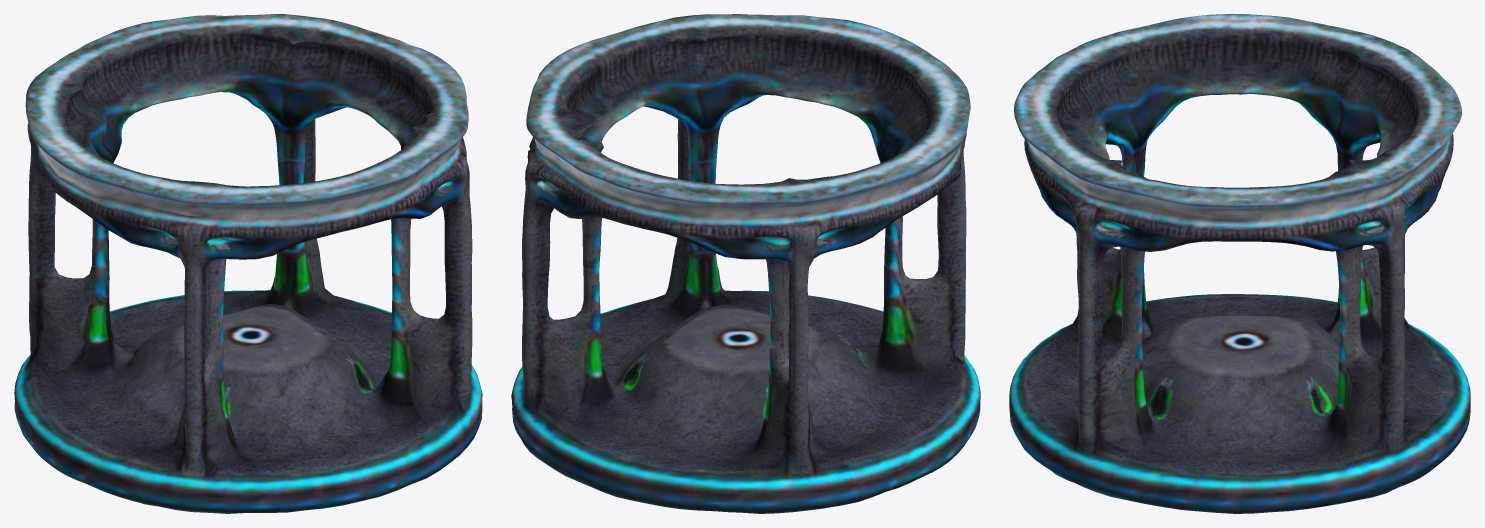
File: bandstand.glb
The picture shows the model from 3 angles, left to right: view 1: azimuth 30°, elevation 25°; view 2: azimuth 150°, elevation 25°; view 3: azimuth 270°, elevation 25°; orthographic projection.
Parts seen in each view (by area): view 1: mesh; view 2: mesh; view 3: mesh.
Part boxes in pixels (x1,y1,x2,y2): mesh: [14, 14, 482, 513]; mesh: [511, 14, 980, 513]; mesh: [1009, 14, 1470, 513].
Size of the model in its own units: 0.9979 by 0.7422 by 0.9985.
Materials: 1 (1 with a texture image).
